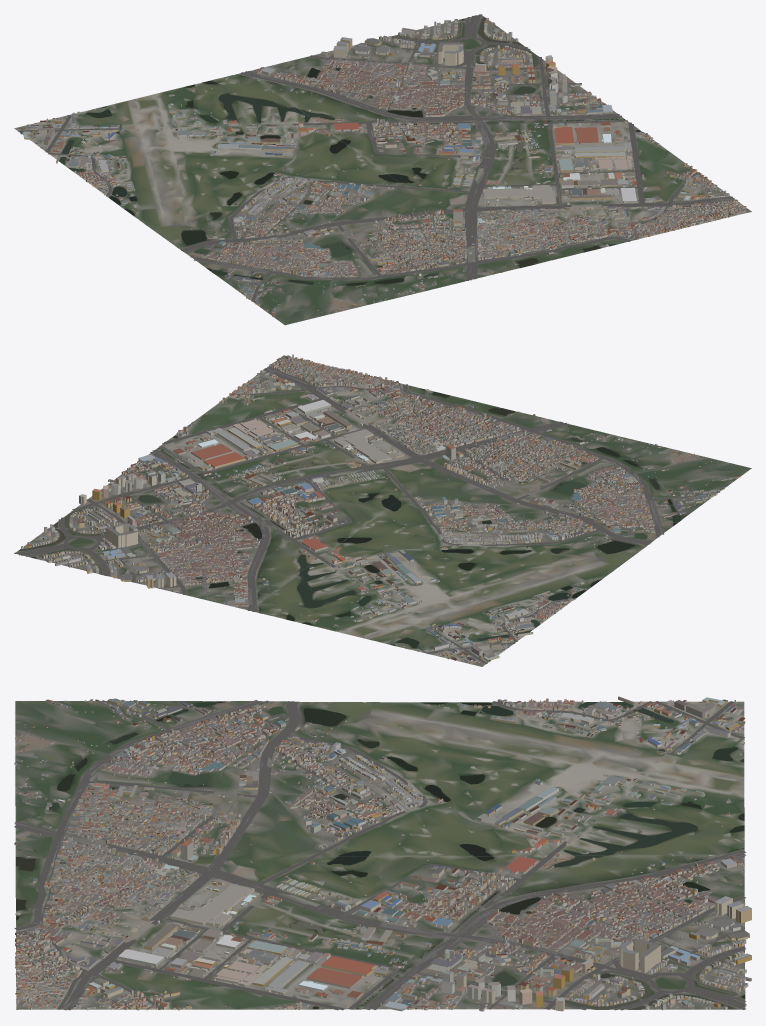
The picture shows the model from 3 angles, top to bottom: view 1: azimuth 30°, elevation 25°; view 2: azimuth 150°, elevation 25°; view 3: azimuth 270°, elevation 25°; orthographic projection. The views are drawn at different scales.
Parts seen in each view (by area): view 1: ground, buildings, roads, water; view 2: ground, buildings, roads, water; view 3: ground, buildings, roads, water.
Boxes of the visible parts, box(x1,y1,x2,y2) form: ground: box(14, 15, 751, 325); buildings: box(18, 17, 746, 316); roads: box(18, 14, 741, 310); water: box(59, 17, 639, 285); ground: box(16, 355, 751, 666); buildings: box(21, 354, 740, 664); roads: box(14, 359, 731, 664); water: box(18, 388, 680, 648); ground: box(15, 701, 745, 1009); buildings: box(14, 696, 751, 1011); roads: box(14, 700, 746, 1010); water: box(16, 701, 744, 1009).
Size of the model in its own units: 2848 by 78.05 by 2838.
